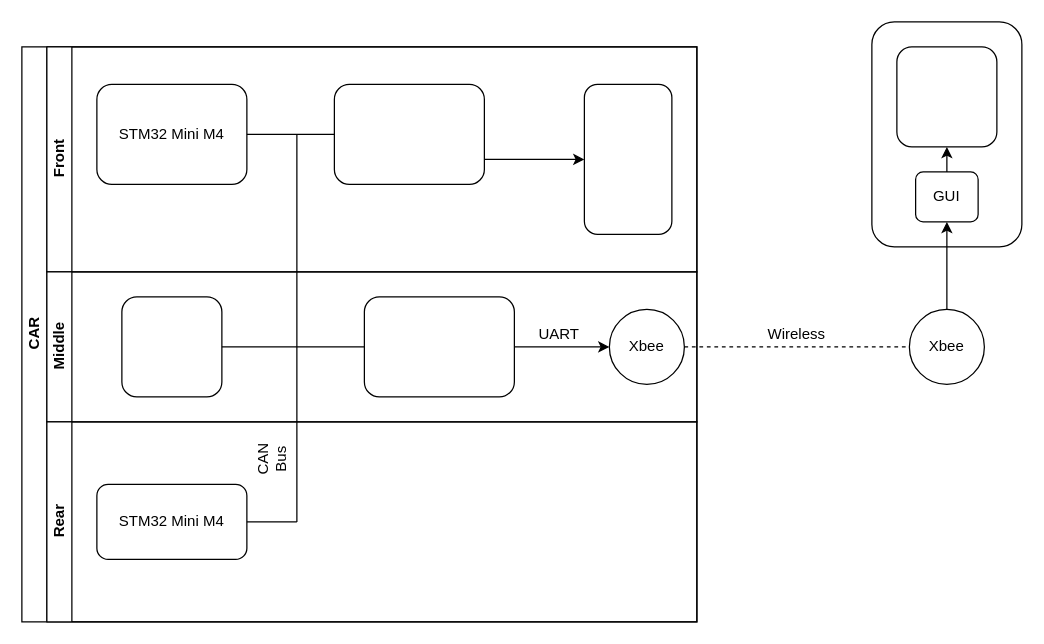
The diagram is 1044 pixels wide and 644 high, and some of its shapes have lost their labels. The centre of each missing label's shape, as x and y in pixels:
"Arduino Mega" belongs at (408,133).
"Arduino Uno" belongs at (438,346).
"Laptop" belongs at (946,96).
"MoTeC M400 ECU" belongs at (171,346).
"New Haven Display" belongs at (627,158).
